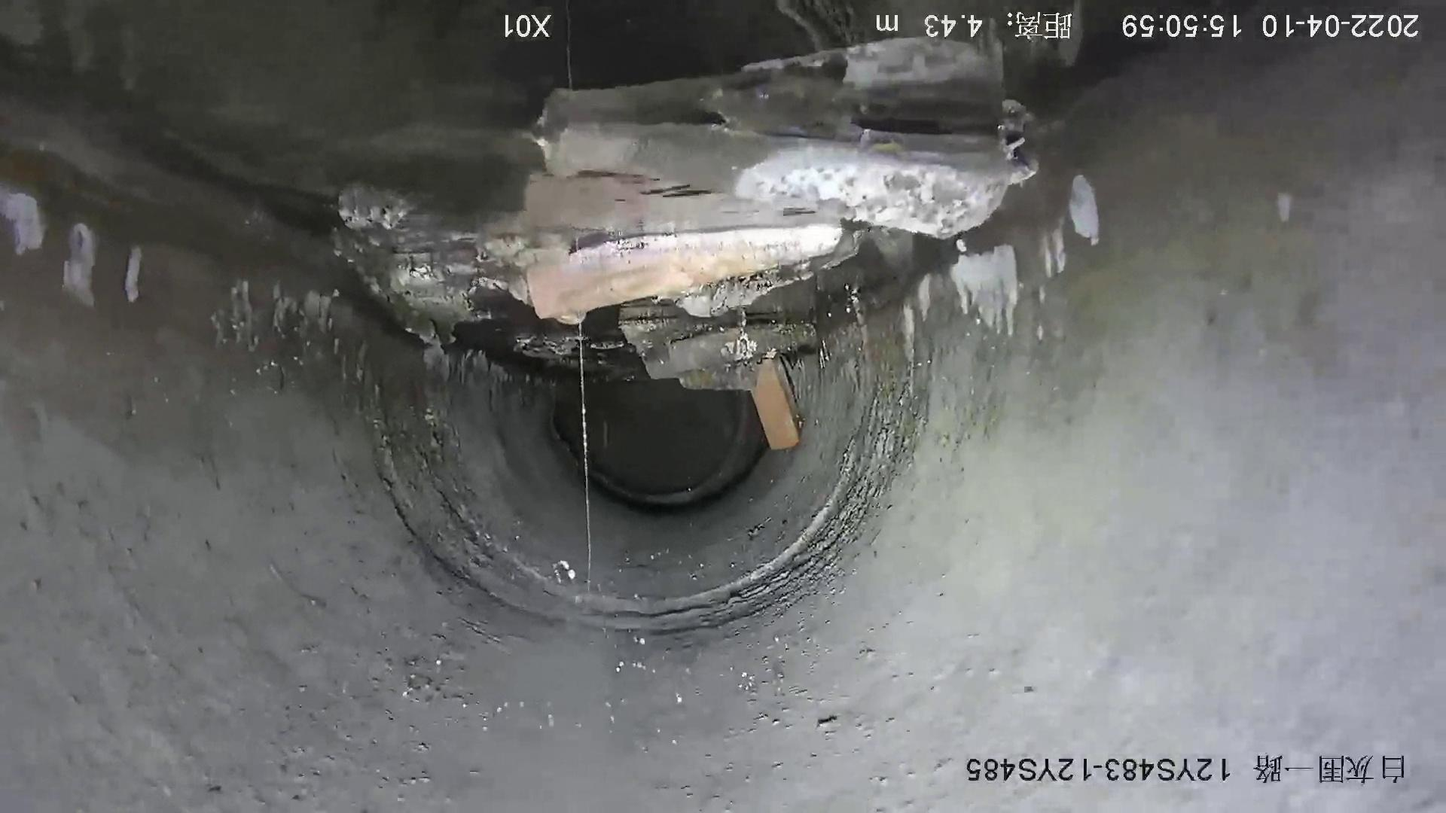ZAW: (334, 126, 1034, 330), (620, 305, 815, 449)
